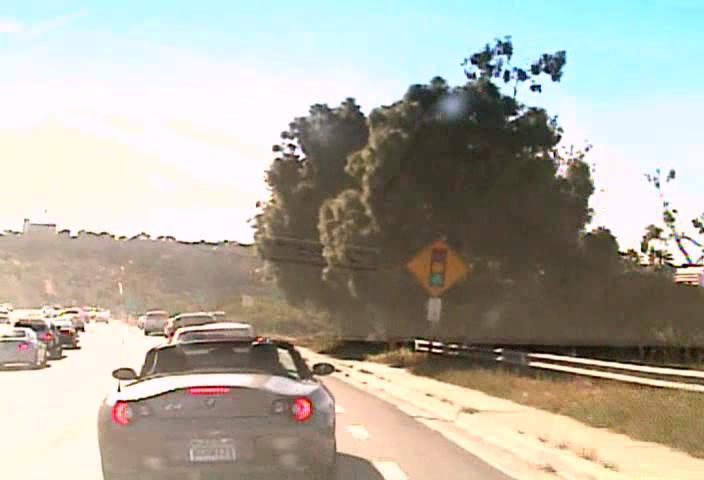signalAhead: (404, 235, 468, 295)
